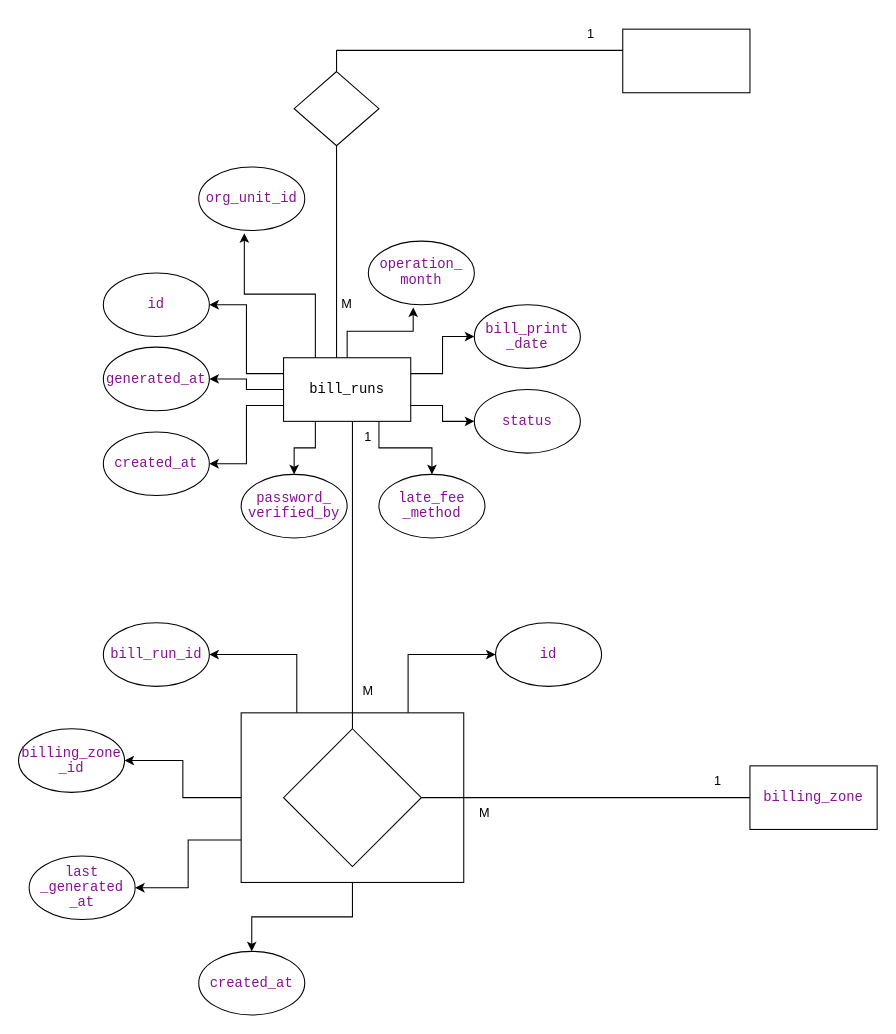
The diagram is 896 pixels wide and 1034 high, and some of its shapes have lost their labels. Here are the shapes that lost their labels. From the top down, the box of each, then its label:
(622, 28, 750, 93): org_units
(293, 70, 379, 146): has
(282, 728, 421, 867): bill_run _zones
